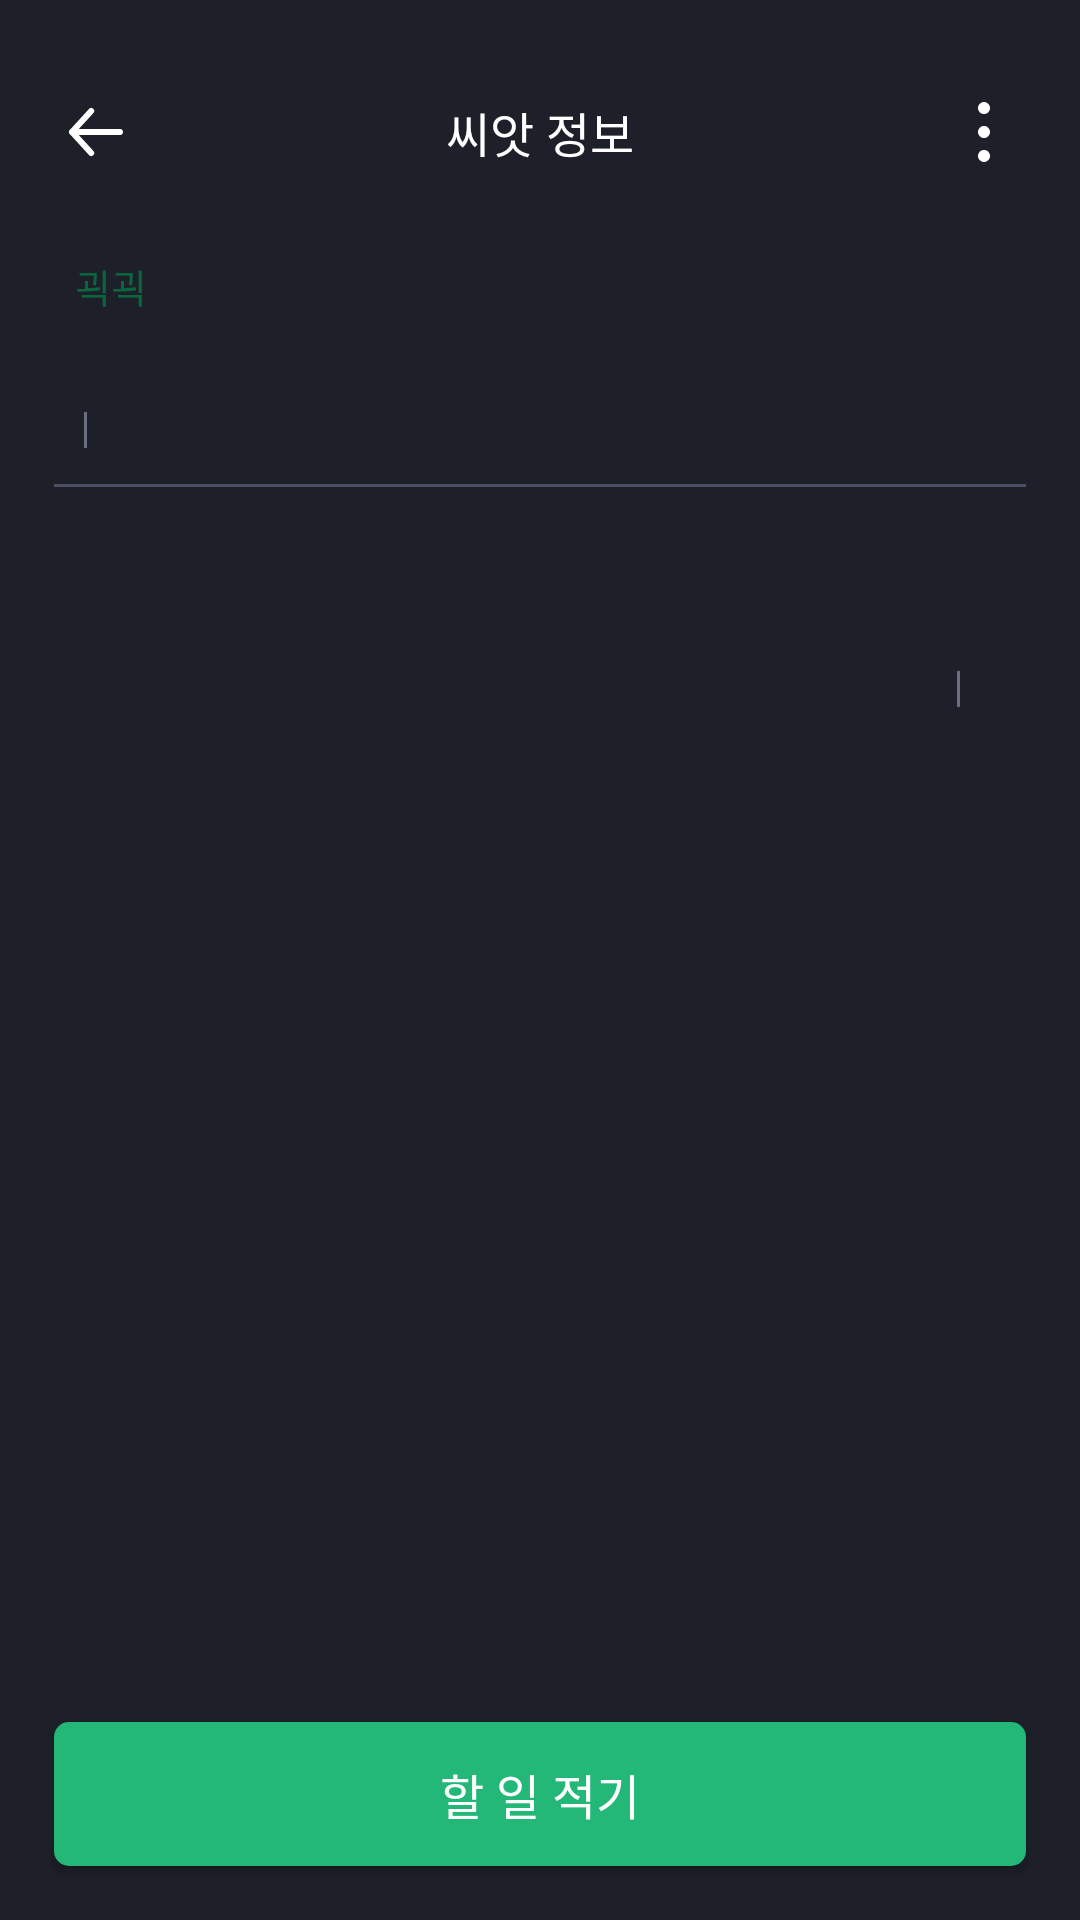

Icons on this 1080px x 1920px Android screen, each with its box as (x1, y1, x2, y2):
back: (69, 107, 123, 157)
mainmenu: (978, 102, 990, 162)
